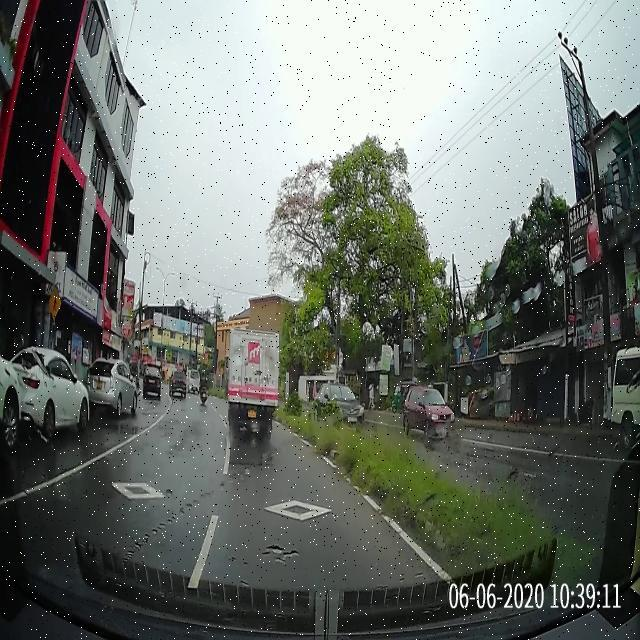diamond: (210, 496, 391, 526)
